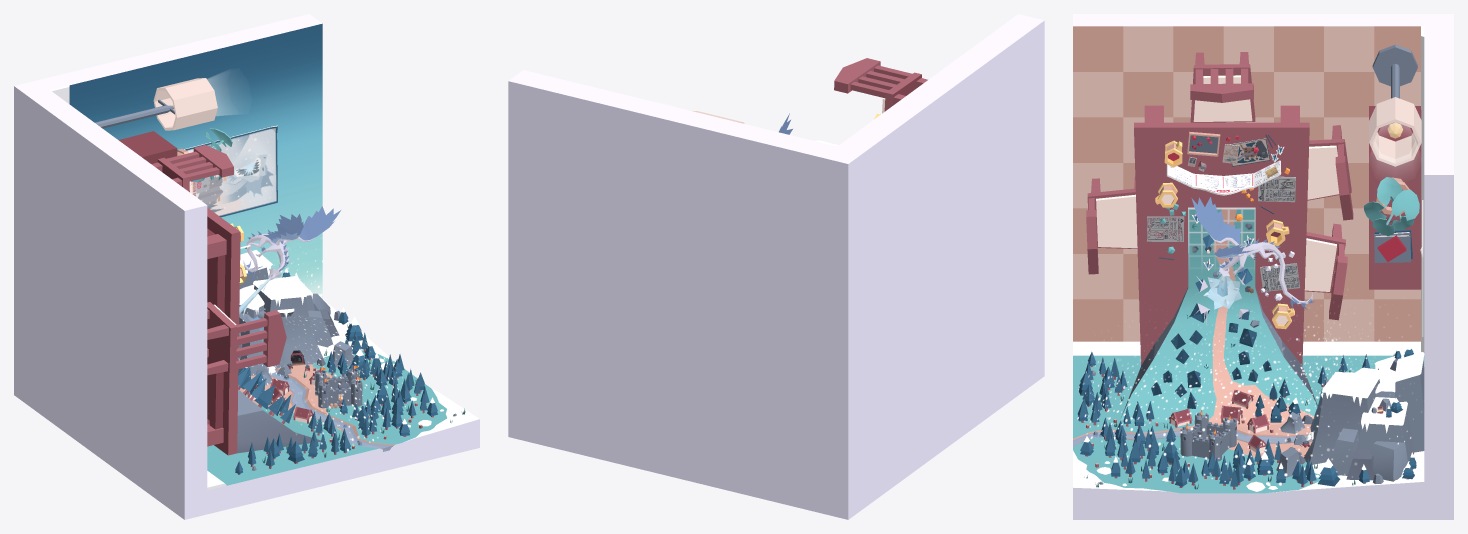
The model's file is dragon-room.glb.
3 renders of one model, left to right at view 1: azimuth 30°, elevation 25°; view 2: azimuth 150°, elevation 25°; view 3: azimuth 270°, elevation 25°, orthographic. The views are drawn at different scales.
Visible parts, largest first — view 1: Room_GEO, Furniture_GEO, RockmineKeep_GEO, Dragon_GEO, Snow_GEO; view 2: Room_GEO, Furniture_GEO; view 3: Room_GEO, Furniture_GEO, RockmineKeep_GEO, Table_Decorations_GEO, Dragon_GEO, Snow_GEO, ShelfItems_GEO.
Part boxes in pixels (x1,y1,x2,y2): Room_GEO: (14, 14, 479, 519); Furniture_GEO: (95, 72, 286, 455); RockmineKeep_GEO: (235, 250, 479, 474); Dragon_GEO: (239, 206, 340, 316); Snow_GEO: (239, 247, 405, 451); Room_GEO: (508, 14, 1044, 519); Furniture_GEO: (666, 58, 927, 123); Room_GEO: (1073, 14, 1453, 519); Furniture_GEO: (1086, 44, 1423, 365); RockmineKeep_GEO: (1073, 214, 1424, 493); Table_Decorations_GEO: (1146, 131, 1299, 329); Dragon_GEO: (1191, 197, 1314, 309); Snow_GEO: (1077, 315, 1413, 486); ShelfItems_GEO: (1374, 218, 1412, 262).
Size of the model in its own units: 1.4 by 1.4 by 1.4.
13 materials, 10 textured.
